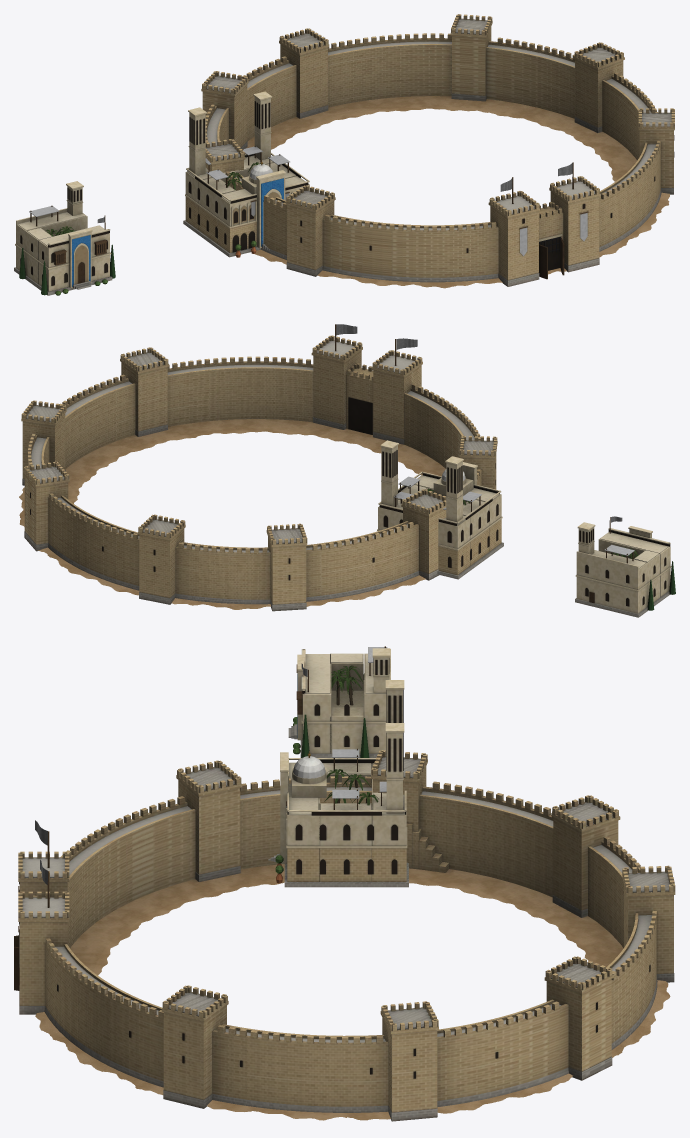
The model's file is shared-kingdoms-levant.glb.
3 renders of one model, top to bottom at view 1: azimuth 30°, elevation 25°; view 2: azimuth 150°, elevation 25°; view 3: azimuth 270°, elevation 25°, orthographic. The views are drawn at different scales.
Parts seen in each view (by area): view 1: LOD0.002, LOD0.001, LOD0; view 2: LOD0.002, LOD0.001, LOD0; view 3: LOD0.002, LOD0.001, LOD0.
Part boxes in pixels (box(x1,y1,x2,y2)): LOD0.002: box(201, 14, 674, 288); LOD0.001: box(183, 91, 309, 257); LOD0: box(14, 181, 115, 295); LOD0.002: box(19, 324, 497, 611); LOD0.001: box(377, 440, 503, 579); LOD0: box(575, 516, 675, 617); LOD0.002: box(14, 750, 675, 1121); LOD0.001: box(268, 680, 408, 887); LOD0: box(288, 646, 390, 757).
Size of what is drawn, in the model's own units: 10.02 by 1.8 by 6.88.
Materials: 3 (3 with a texture image).
